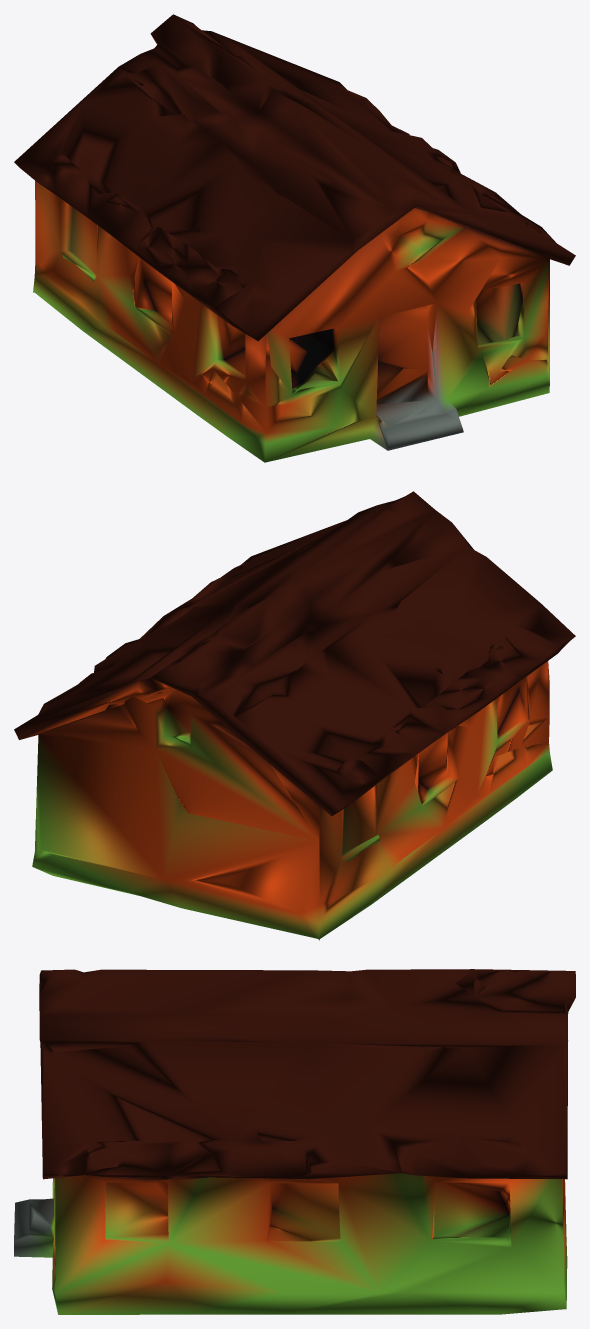
The model's file is gen3d-adobe-house-lod1.glb.
3 renders of one model, top to bottom at view 1: azimuth 30°, elevation 25°; view 2: azimuth 150°, elevation 25°; view 3: azimuth 270°, elevation 25°, orthographic. The views are drawn at different scales.
Parts seen in each view (by area): view 1: part_0; view 2: part_0; view 3: part_0.
Boxes of the visible parts, <box> form: part_0: <box>14,14,575,462</box>; part_0: <box>14,491,575,940</box>; part_0: <box>14,969,575,1314</box>.
Bounding box in the file's own units: 1.43 × 0.996 × 1.89.
